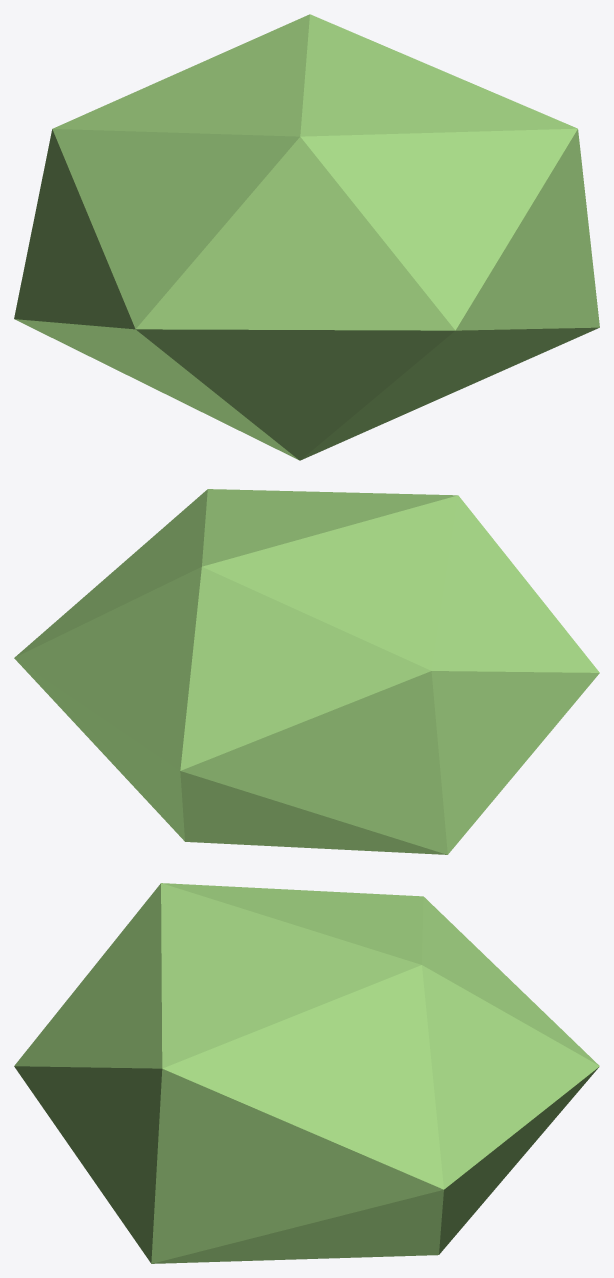
The model's file is arbusto_1_lod.fbx.
3 renders of one model, top to bottom at view 1: azimuth 30°, elevation 25°; view 2: azimuth 150°, elevation 25°; view 3: azimuth 270°, elevation 25°, orthographic. The views are drawn at different scales.
Visible parts, largest first — view 1: arbusto_1_lod~Folhagem@leaf; view 2: arbusto_1_lod~Folhagem@leaf; view 3: arbusto_1_lod~Folhagem@leaf.
Boxes of the visible parts, x1,y1,x2,y2 form: arbusto_1_lod~Folhagem@leaf: (14,14,599,460); arbusto_1_lod~Folhagem@leaf: (14,489,599,854); arbusto_1_lod~Folhagem@leaf: (14,883,599,1263).
Size of the model in its own units: 1.44 by 0.8727 by 1.53.
